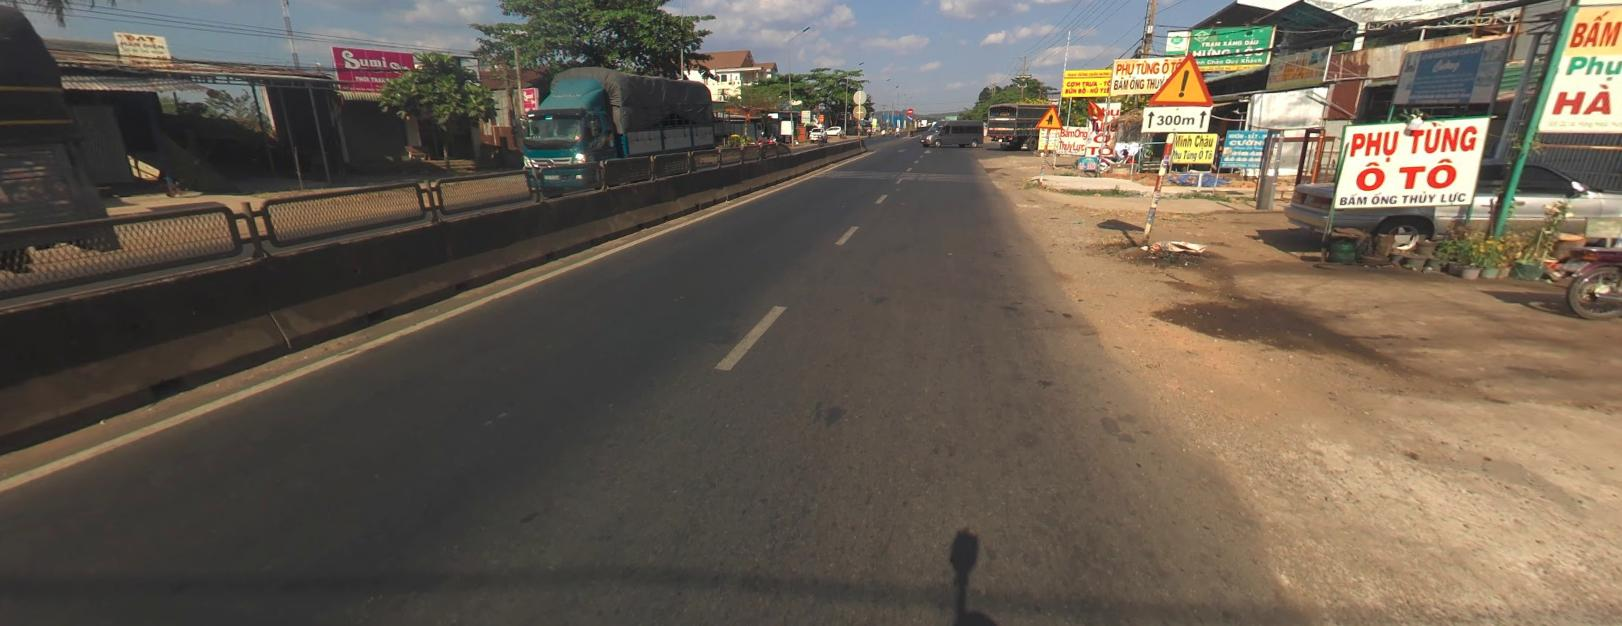Cam nguoc chieu: (906, 107, 912, 113)
Hieu lenh: (907, 114, 913, 119)
Nguy hiem: (1145, 52, 1211, 105), (1037, 103, 1061, 128)
